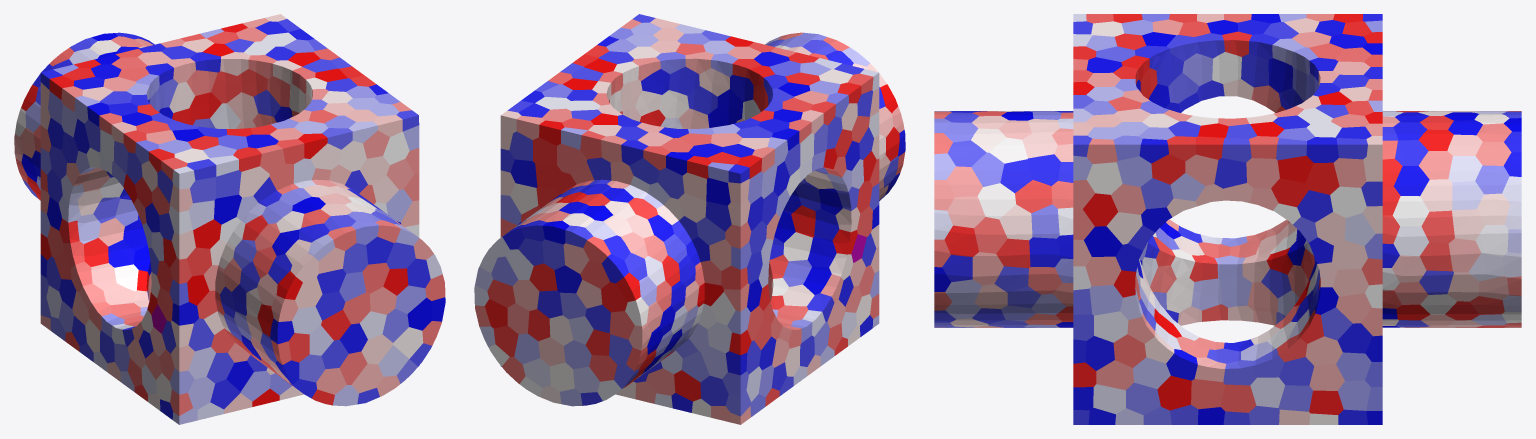
Rendered from Ours_1000_block_Iter13_RVD.obj.
3 views of the same model, side by side, from view 1: azimuth 30°, elevation 25°; view 2: azimuth 150°, elevation 25°; view 3: azimuth 270°, elevation 25° (orthographic). The views are drawn at different scales.
Visible parts, largest first — view 1: 3D_Object; view 2: 3D_Object; view 3: 3D_Object.
Boxes of the visible parts, bbox=[...] form: 3D_Object: bbox=[14, 14, 445, 424]; 3D_Object: bbox=[474, 14, 905, 424]; 3D_Object: bbox=[934, 14, 1521, 424].
Bounding box in the file's own units: 20 × 20 × 38.
Materials: 1 (1 with a texture image).
